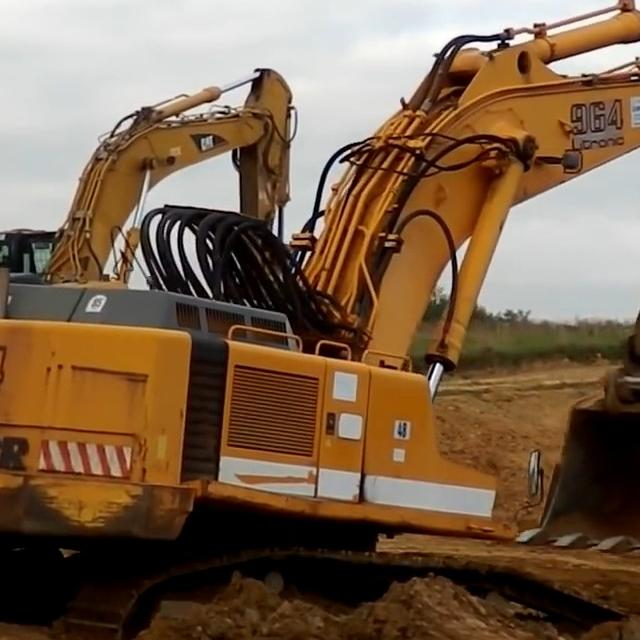Excavator: (0, 0, 640, 640), (0, 66, 306, 314)
Person: (0, 237, 6, 264)
